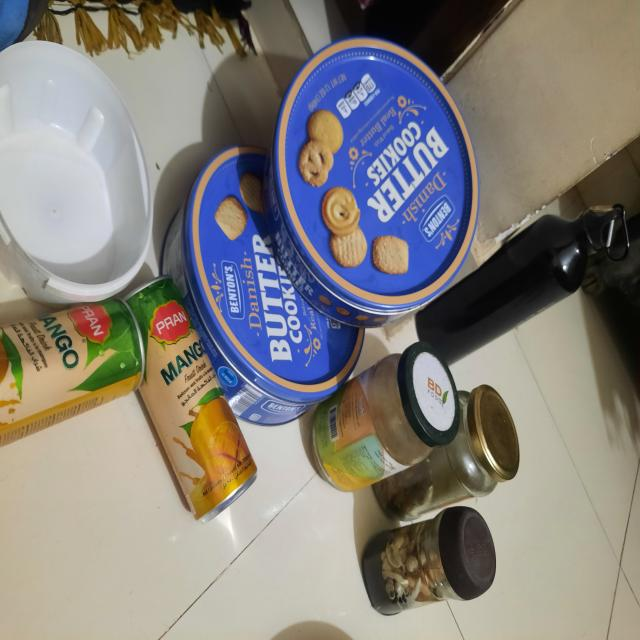Glass: (318, 392, 464, 628)
Plastics: (0, 32, 146, 296)
can: (206, 32, 633, 353), (3, 296, 236, 548)
